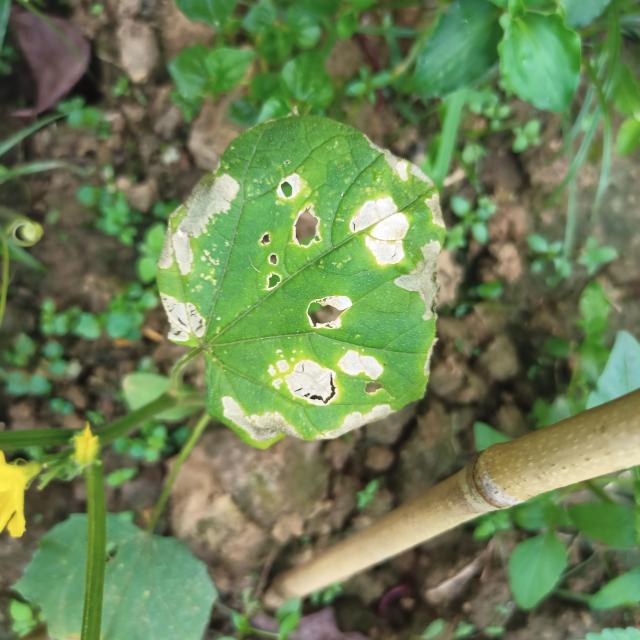disease_cucumber: (280, 140, 448, 342), (153, 162, 280, 347), (220, 343, 399, 451)
